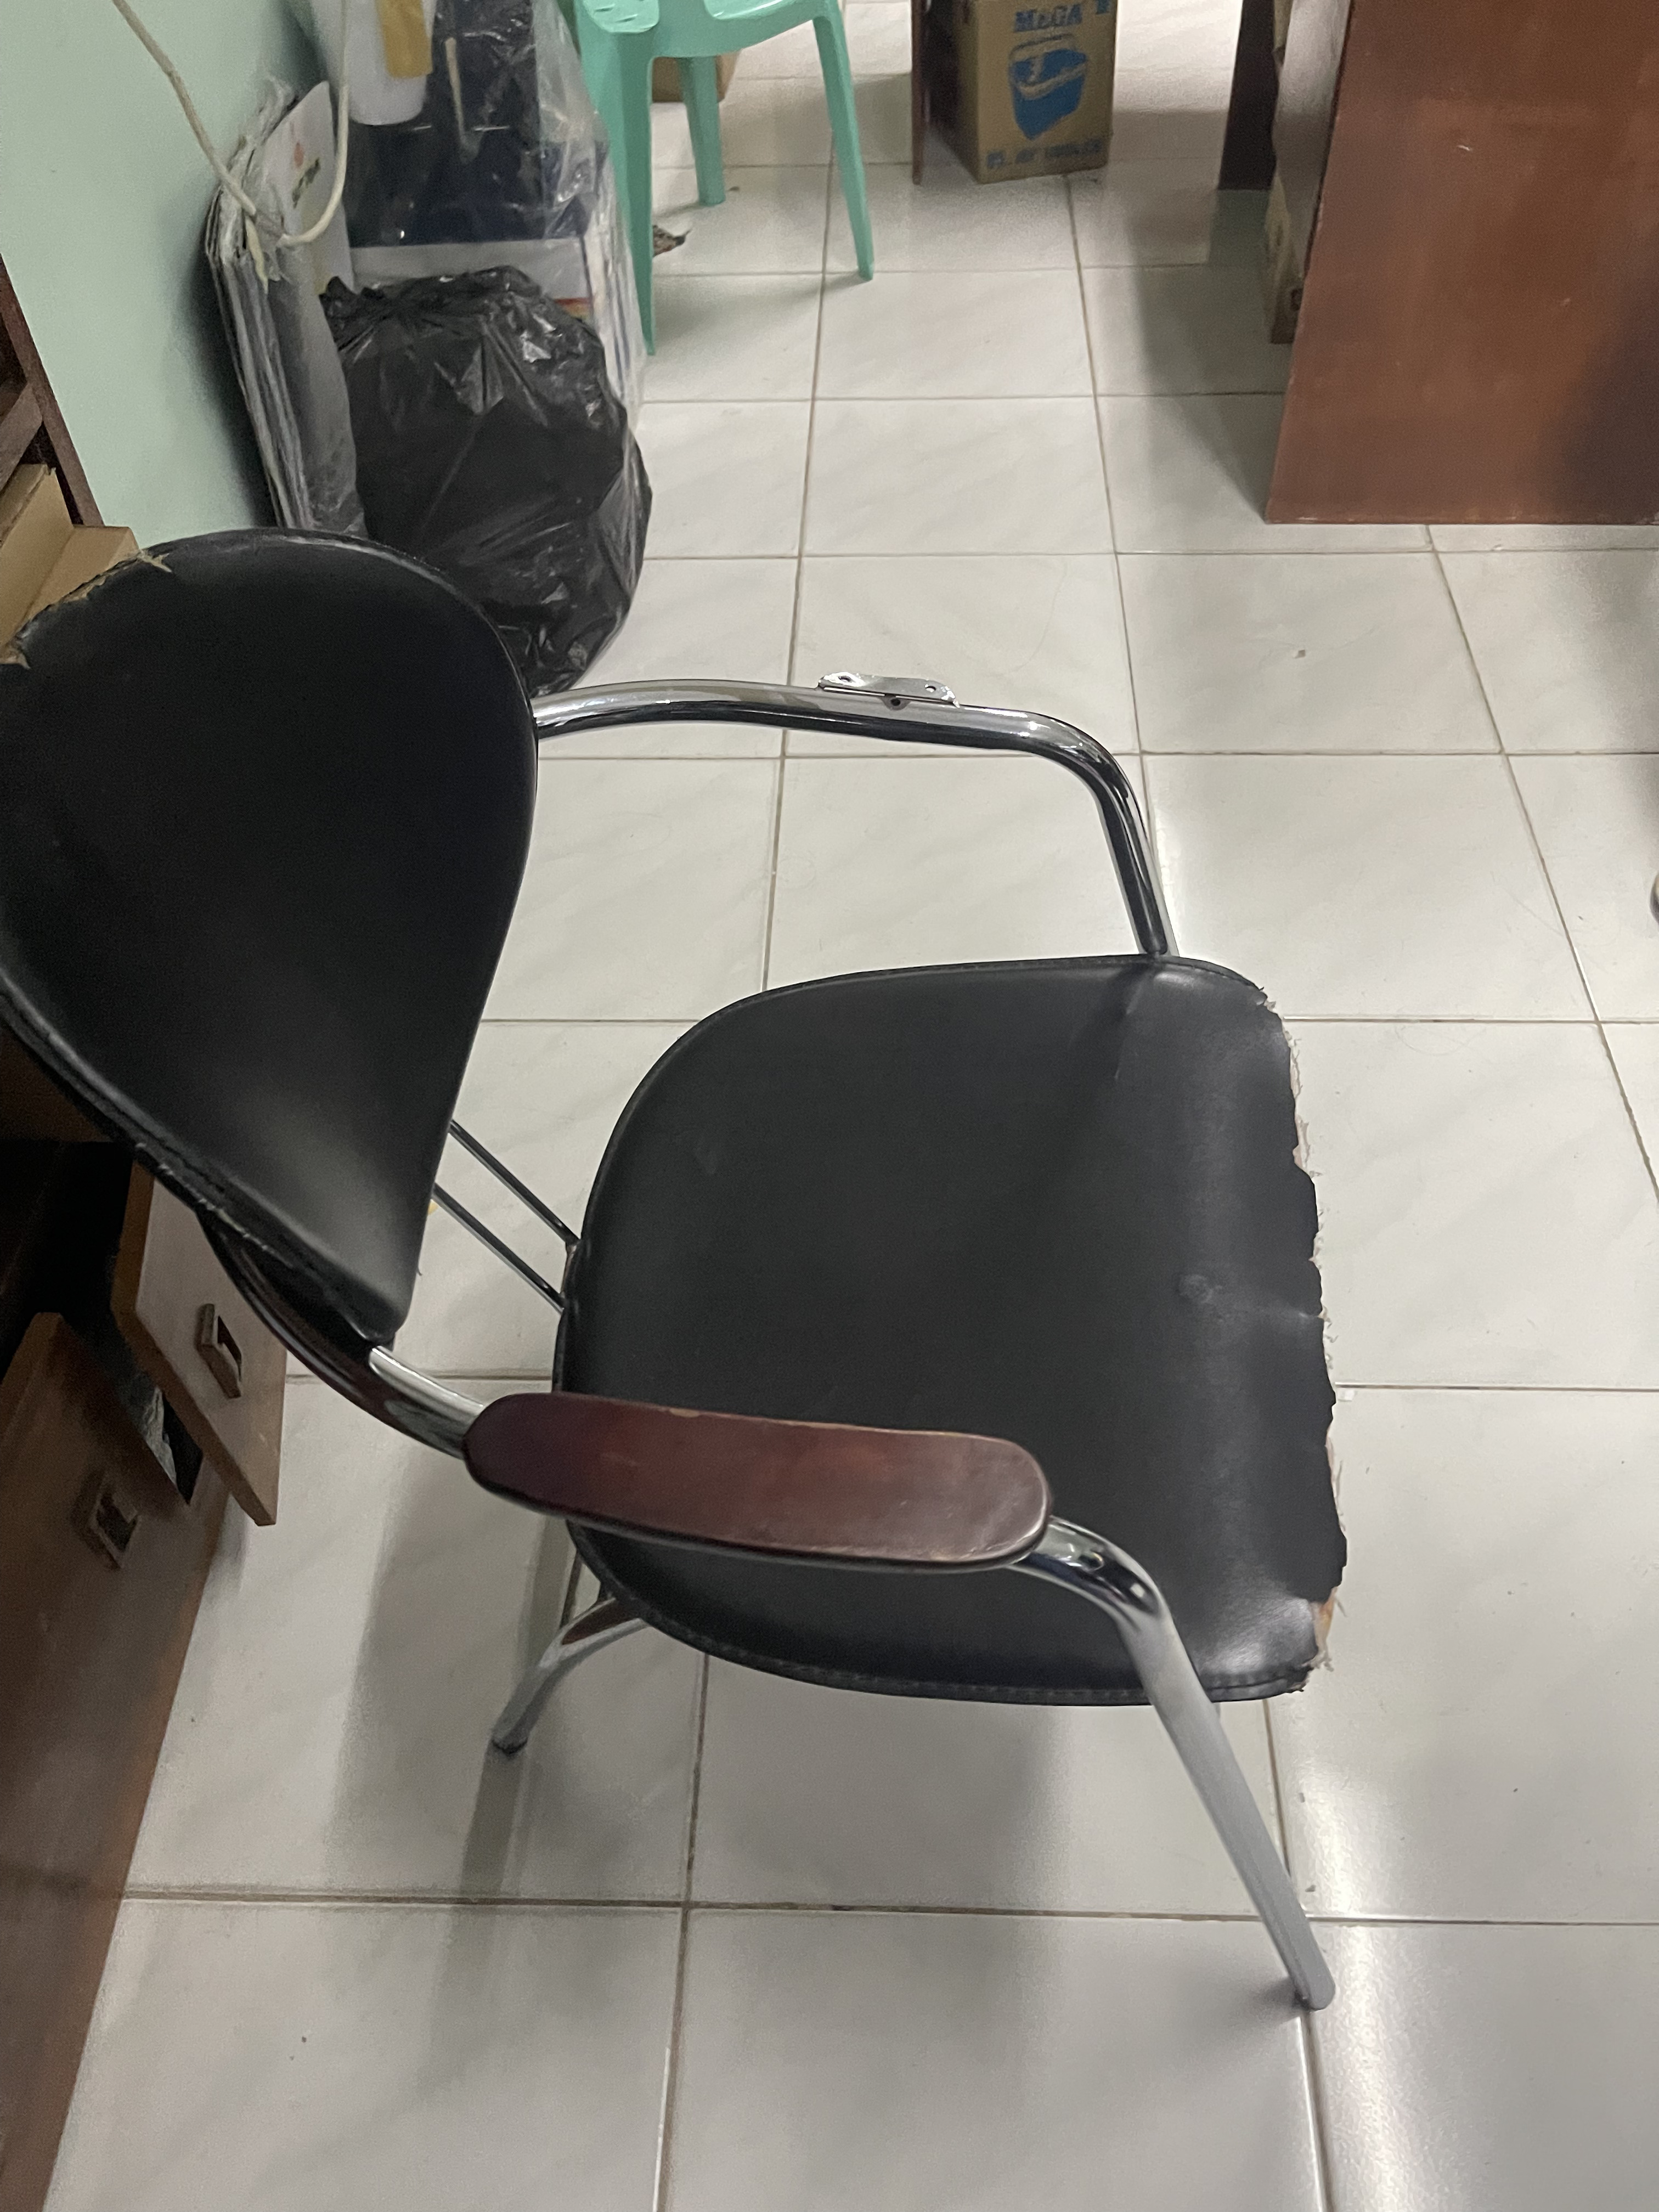chair1: (2, 526, 1358, 2019)
